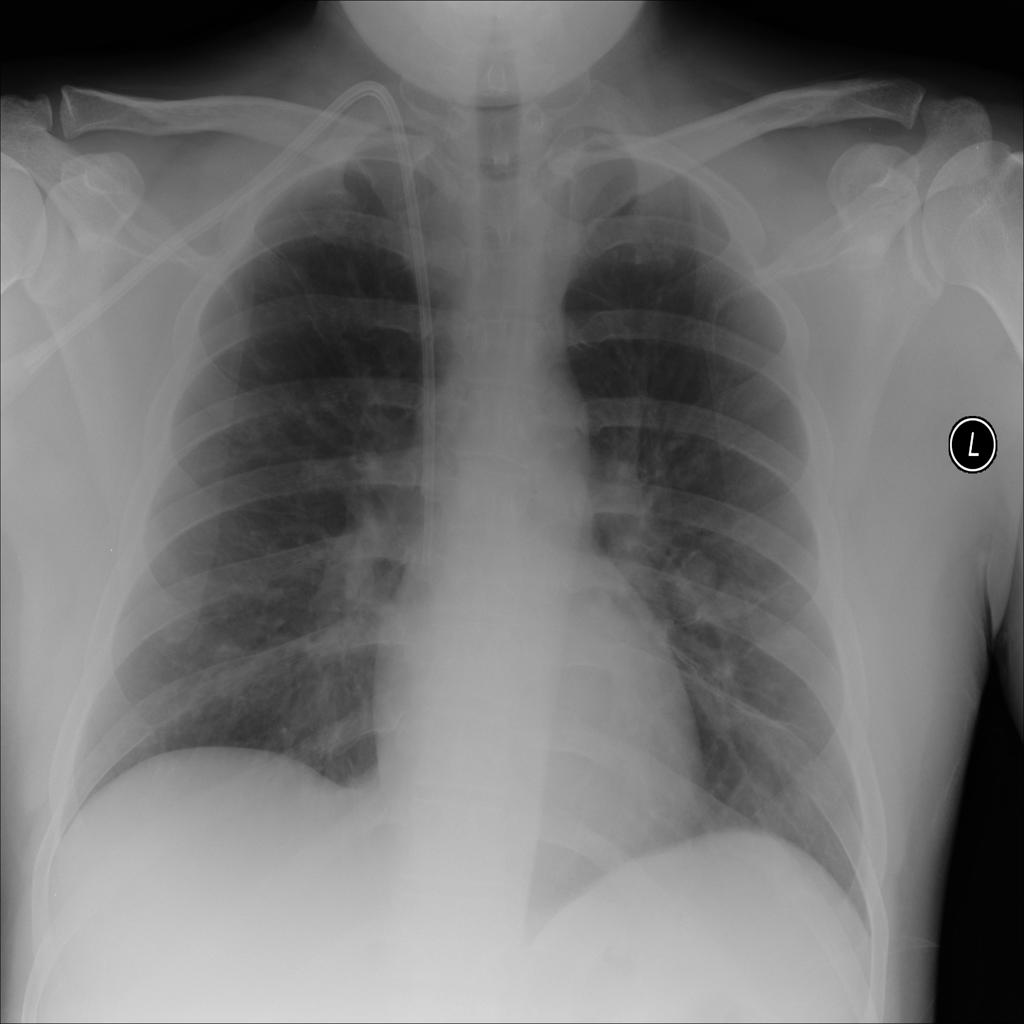nodule: (653, 535, 759, 639)
